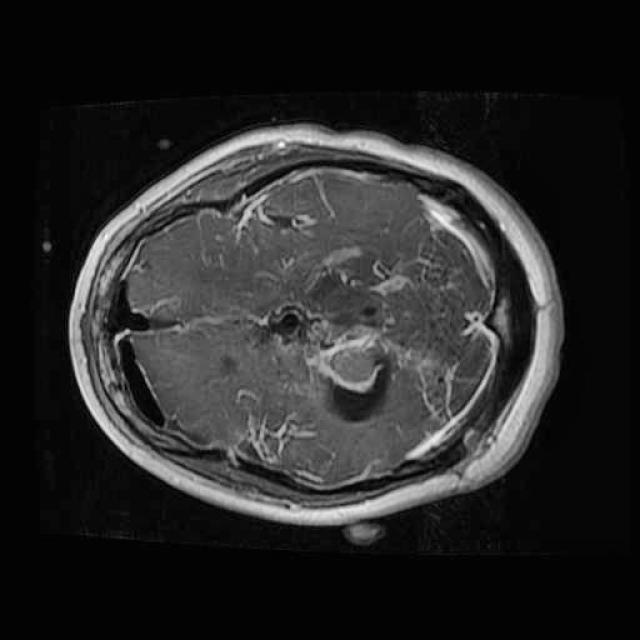Tumor: (242, 243, 442, 433)
